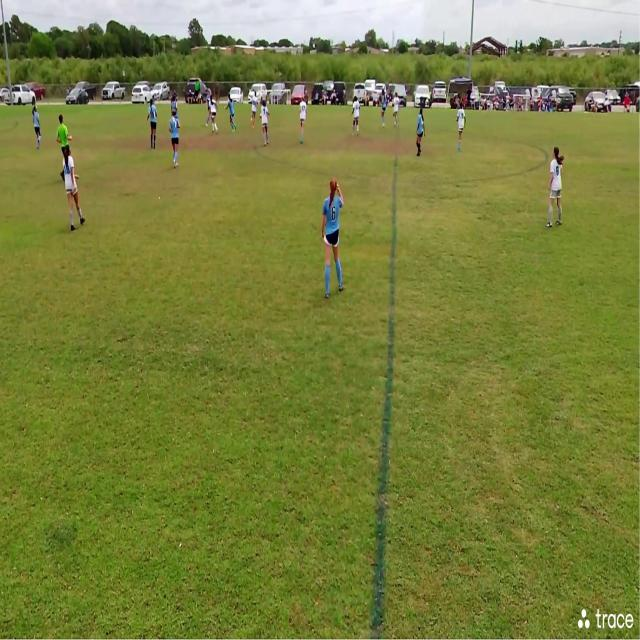team1: (321, 181, 345, 298), (169, 109, 182, 167), (150, 98, 160, 151), (416, 110, 426, 158), (34, 106, 44, 150), (208, 90, 218, 134), (229, 97, 237, 134), (380, 92, 388, 125)
team2: (62, 145, 84, 232), (549, 150, 564, 228), (299, 97, 309, 147), (456, 104, 465, 152), (262, 103, 271, 149), (212, 96, 221, 136), (352, 99, 360, 139), (250, 90, 258, 129), (393, 98, 401, 130)
